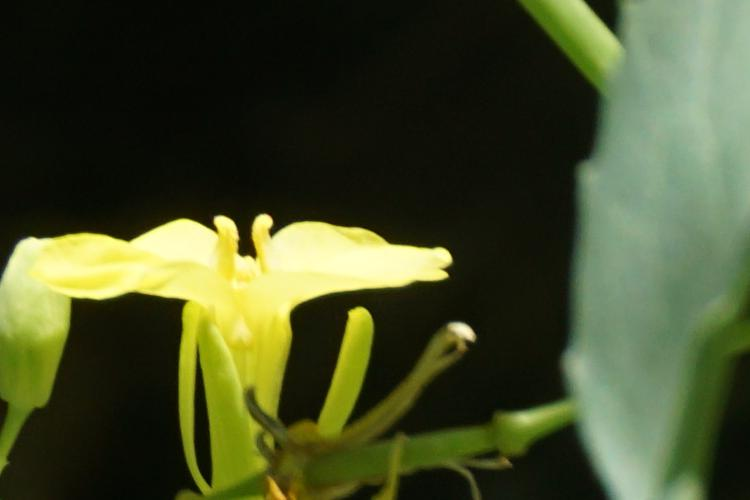bud: (11, 238, 75, 416)
yellow: (50, 221, 461, 409)
